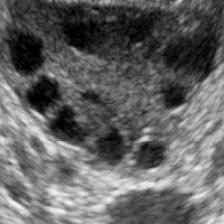pcos: (4, 0, 220, 188)
